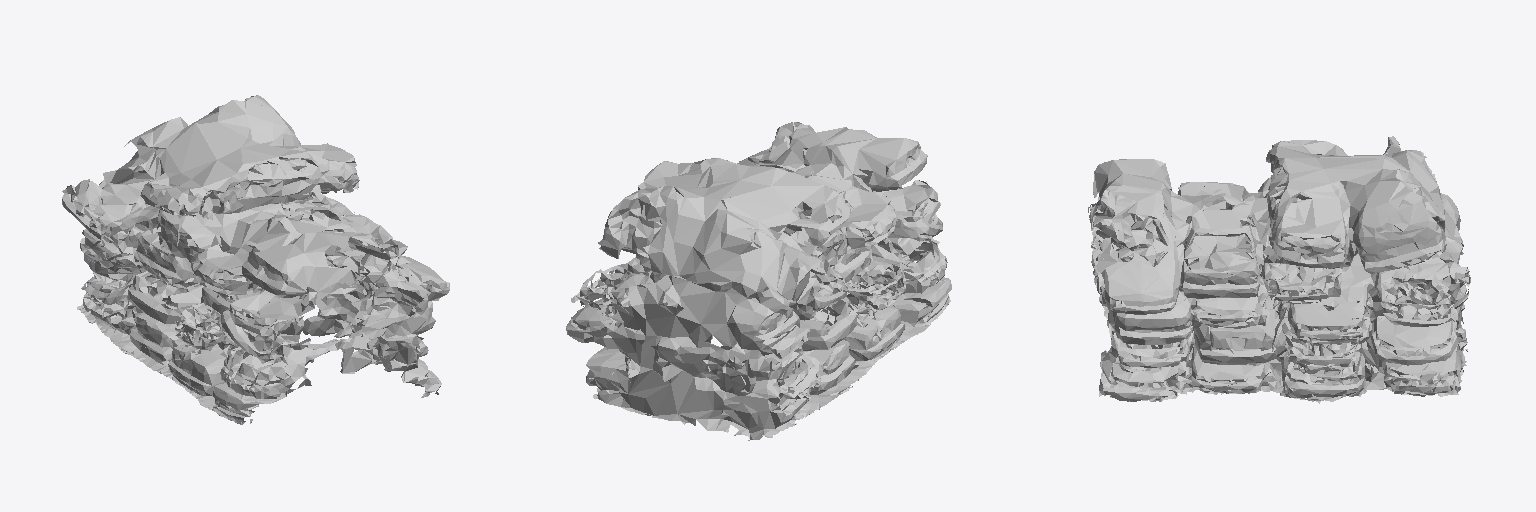
Rendered from CarStacks01.obj.
The picture shows the model from 3 angles: view 1: azimuth 30°, elevation 25°; view 2: azimuth 150°, elevation 25°; view 3: azimuth 270°, elevation 25°; orthographic projection.
Visible parts, largest first — view 1: carwall; view 2: carwall; view 3: carwall.
Part boxes in pixels (x1,y1,x2,y2): carwall: (62, 95, 449, 424); carwall: (566, 122, 951, 440); carwall: (1088, 136, 1470, 403).
Size of the model in its own units: 9.75 by 7.72 by 12.82.